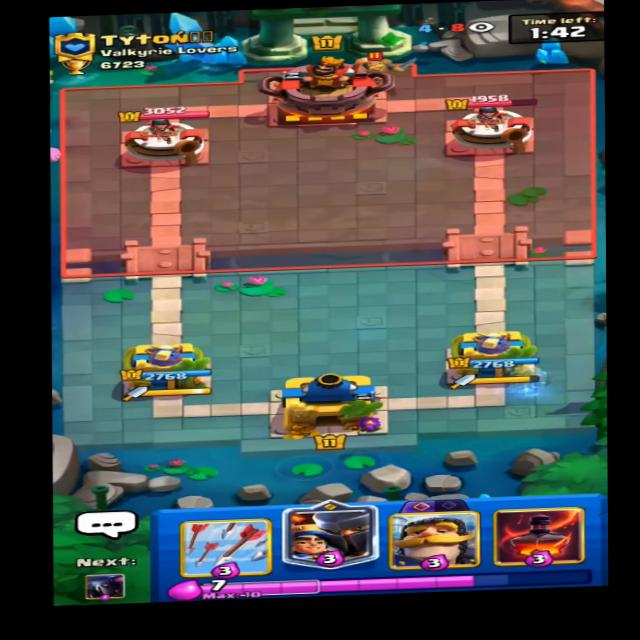knight: (343, 48, 417, 86)
